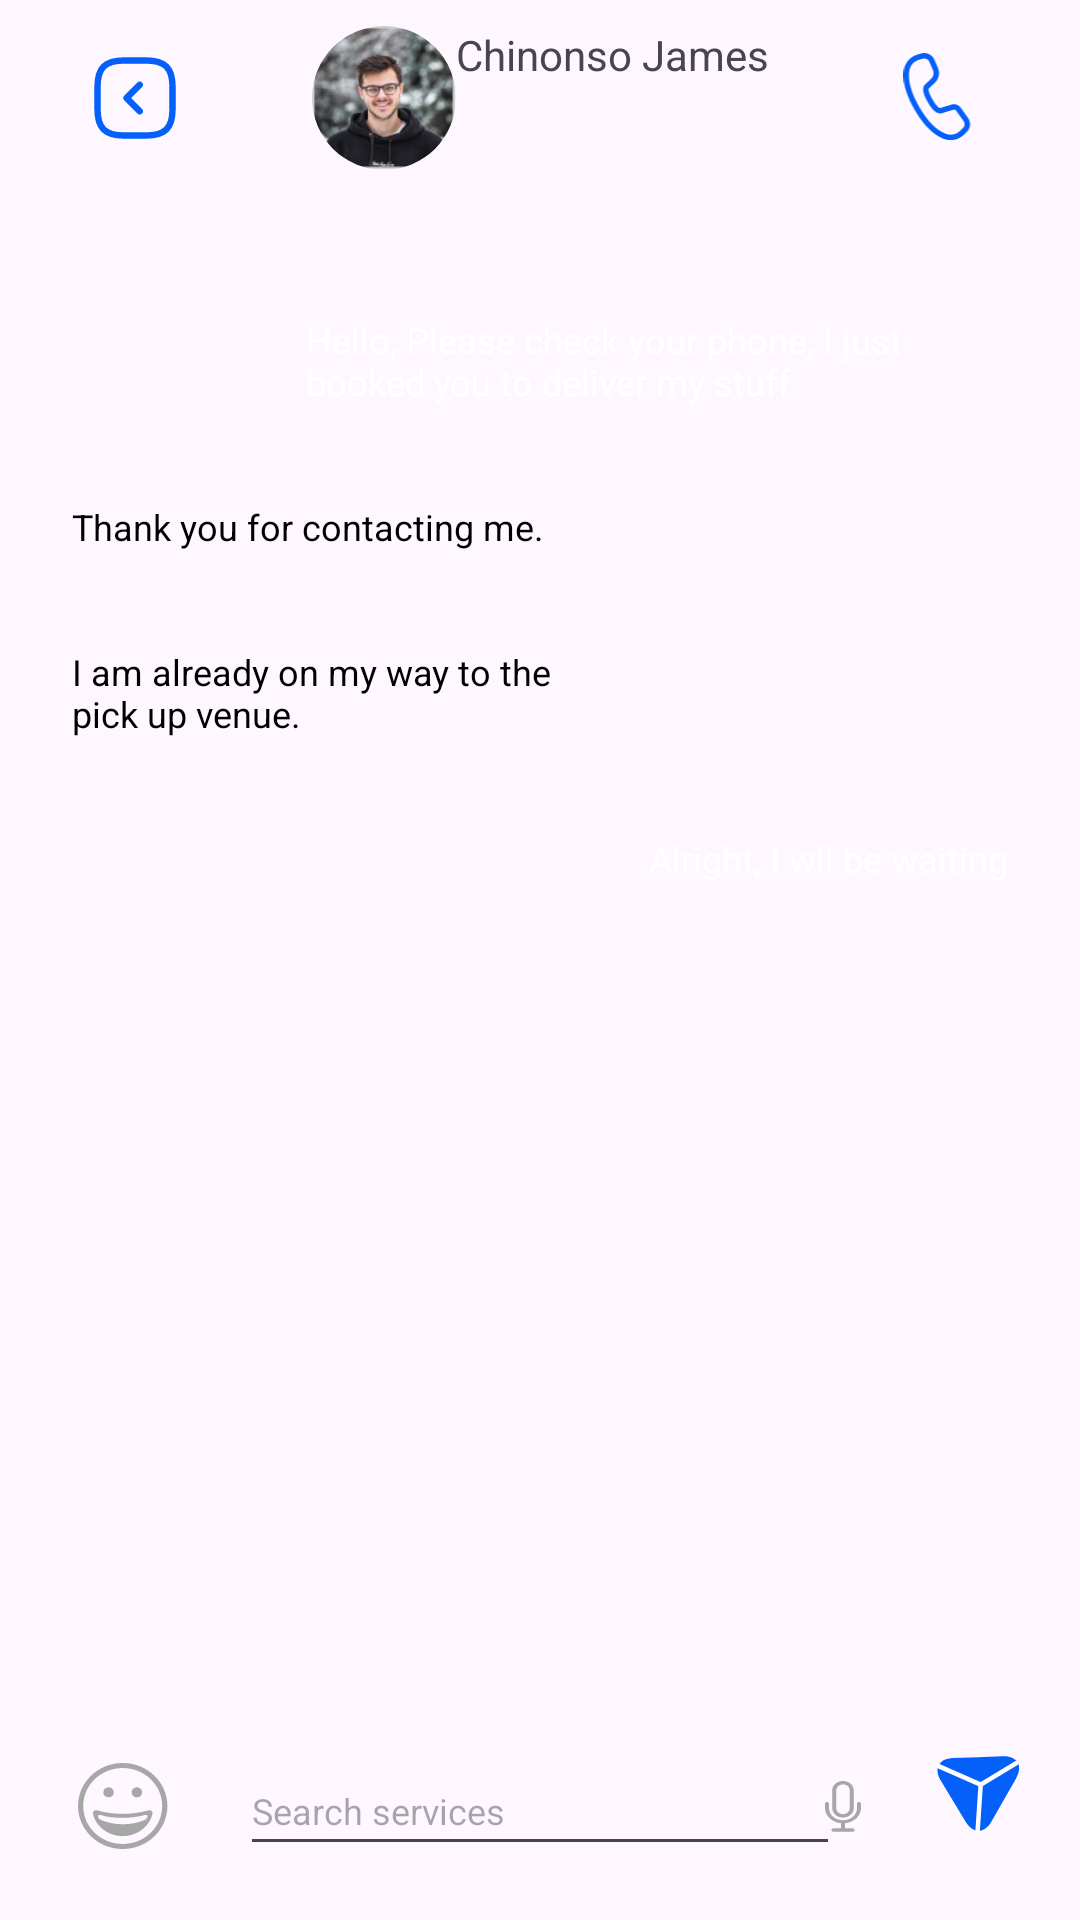

Where icons sit on this 1080×1920 app screen, as (x1, y1, x2, y2):
Emoji icon: (78, 1763, 168, 1849)
Mic icon: (825, 1781, 861, 1832)
Phone icon: (903, 53, 971, 140)
